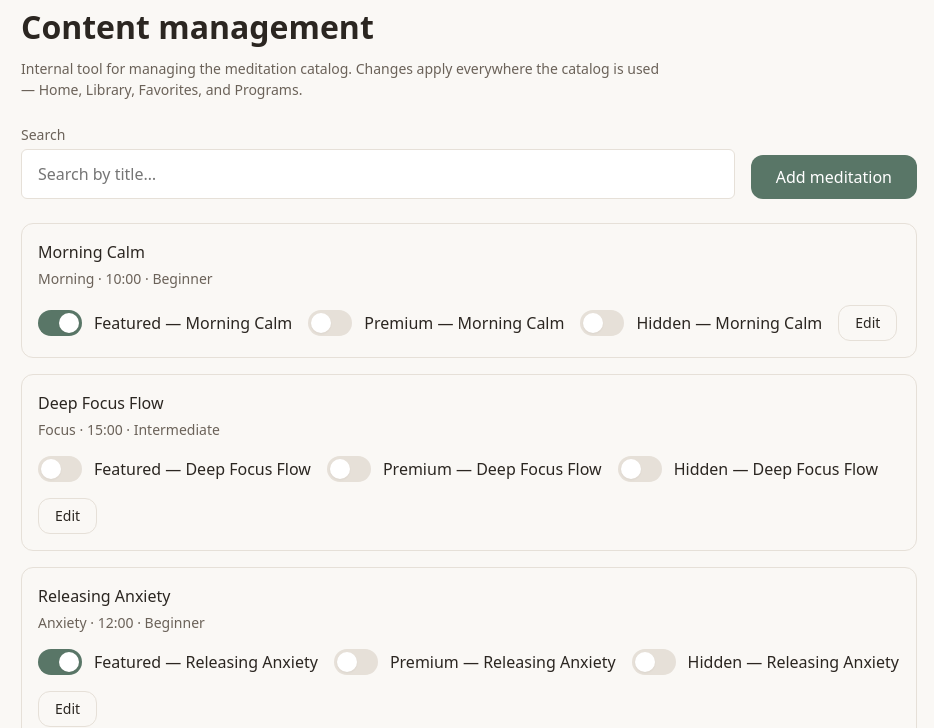
Scenario: AdminPage › filters the list by search
The width and height of the screenshot is (934, 728).
Type "Morning Calm" into the search field labelled "Search".
click(378, 174); type("Morning Calm")  # box top-left (21, 149), bottom-right (735, 199)
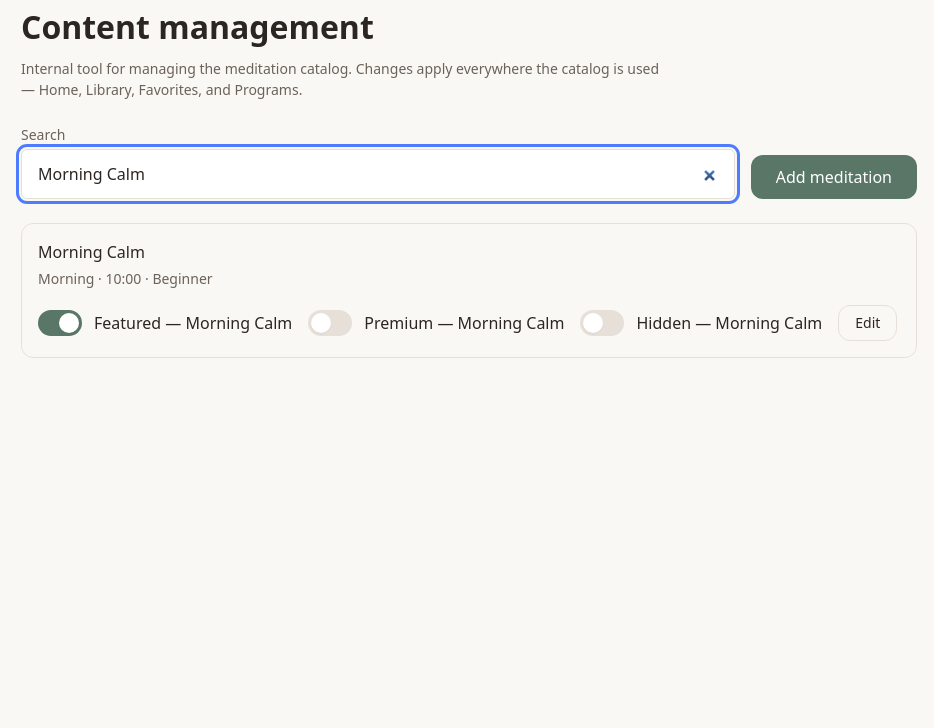
Expected: the text "Morning Calm" is shown, top-left (38, 241), bottom-right (145, 263)
Result: the text "Deep Focus Flow" is gone
